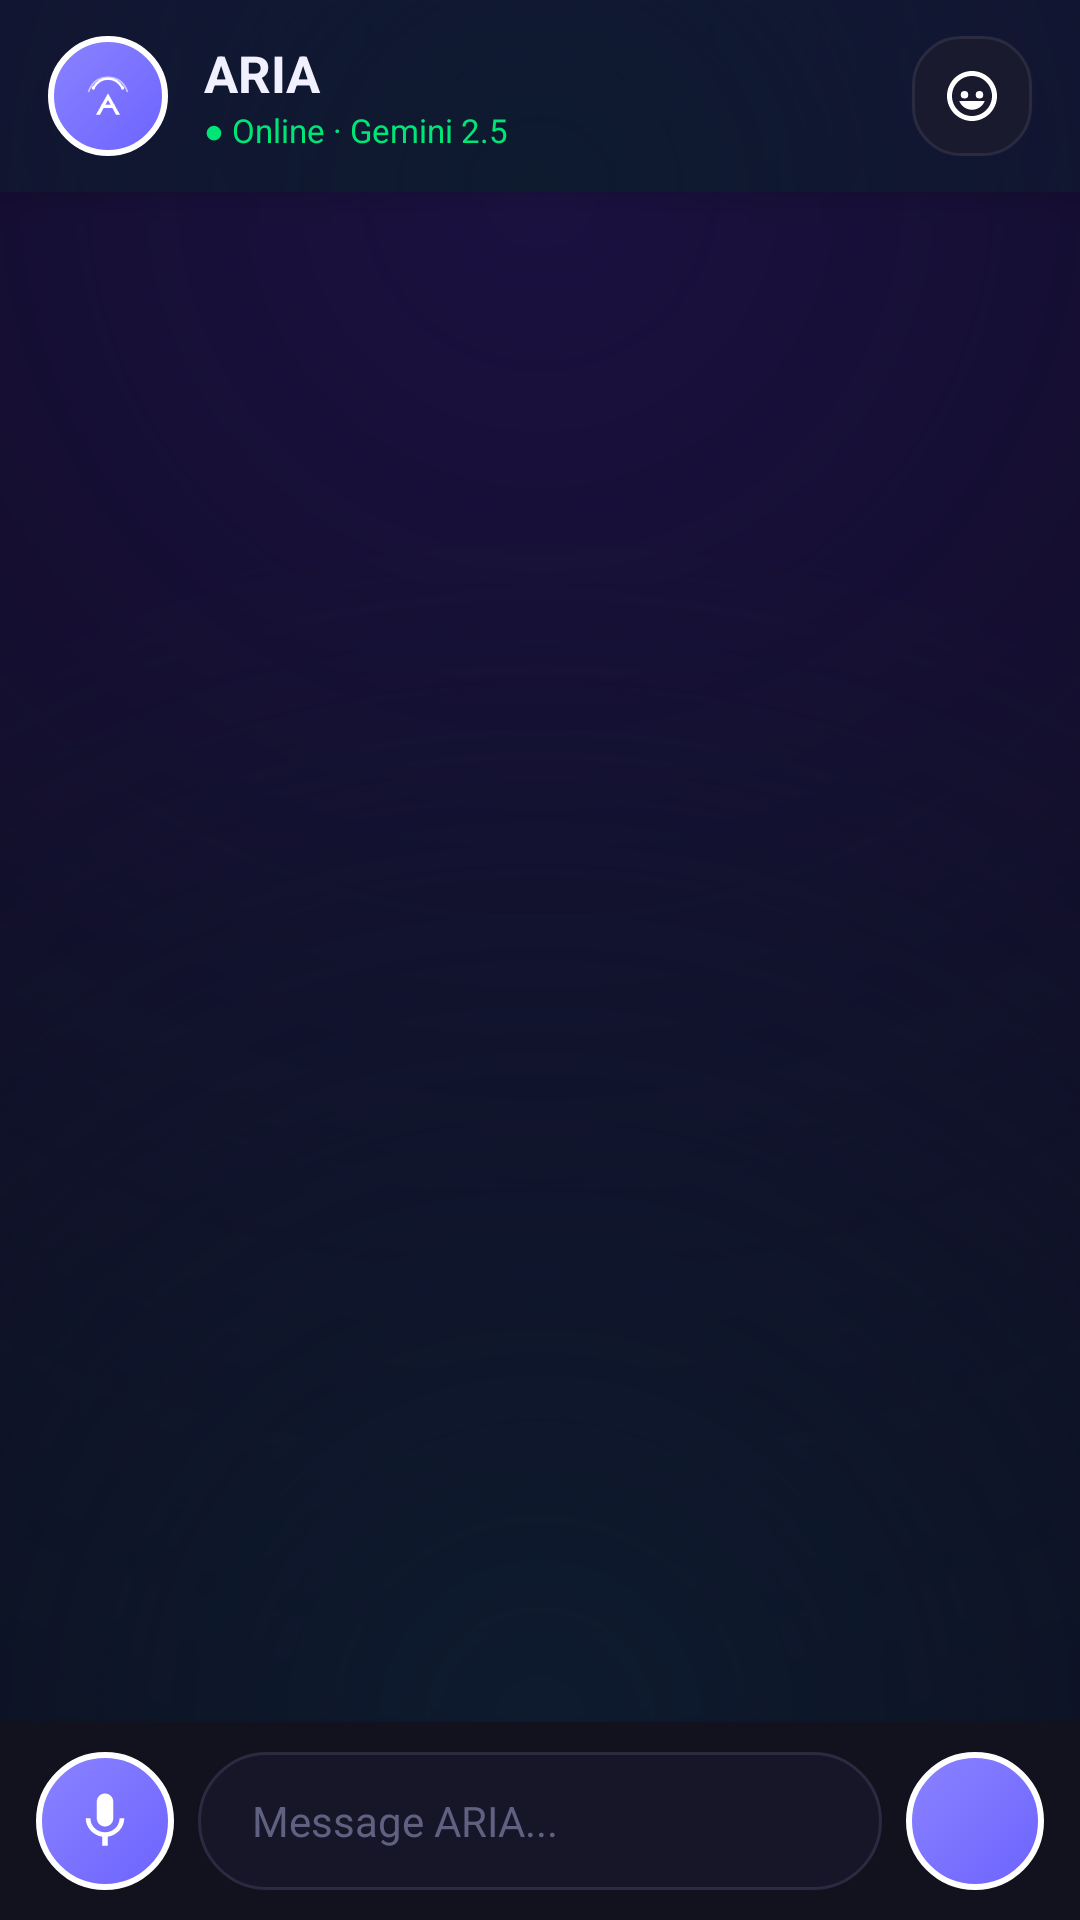

Locate icon controls on the screen. Image size 1080 x 1920, boxes as rect(x1, y1, x2, y2).
Voice input: rect(36, 1752, 174, 1890)
